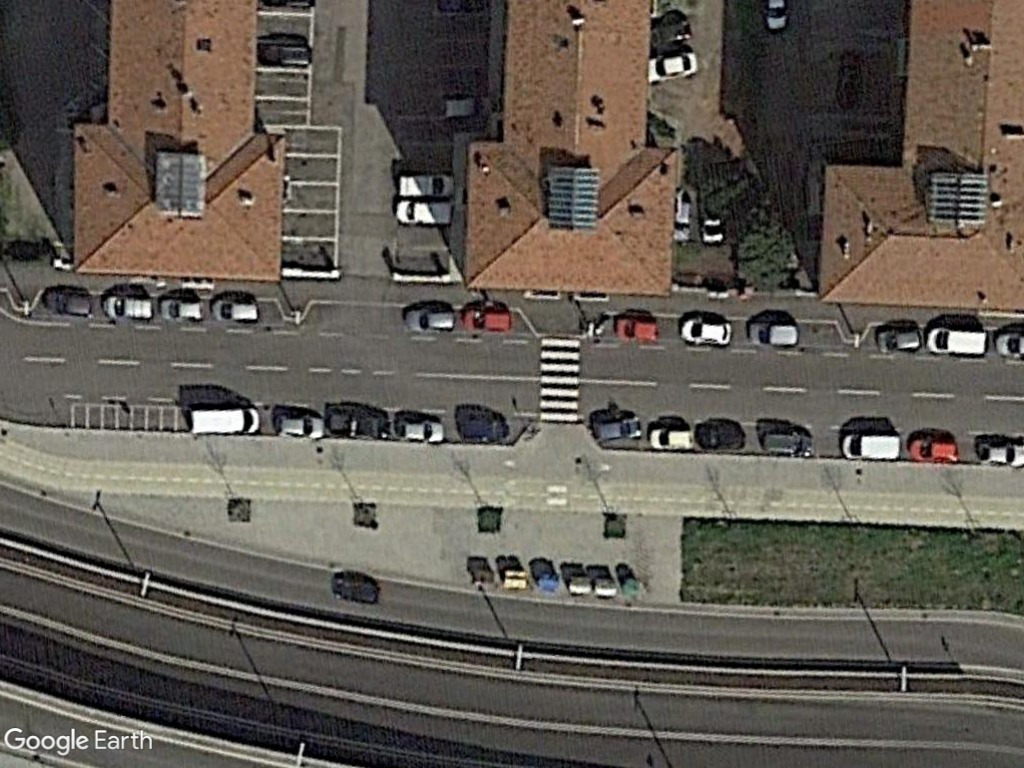car: (757, 428, 819, 462), (266, 407, 327, 441), (391, 411, 447, 448), (676, 312, 734, 347), (99, 292, 160, 324), (41, 287, 98, 321), (905, 434, 964, 466), (401, 305, 459, 336), (153, 295, 210, 326), (743, 320, 801, 350), (648, 50, 699, 84), (209, 295, 264, 326), (459, 305, 515, 335), (587, 414, 643, 444), (646, 421, 695, 455), (870, 325, 924, 355), (611, 313, 663, 344)
van: (181, 403, 261, 438), (394, 197, 458, 229), (923, 327, 989, 356), (840, 434, 904, 462), (395, 171, 456, 200)
